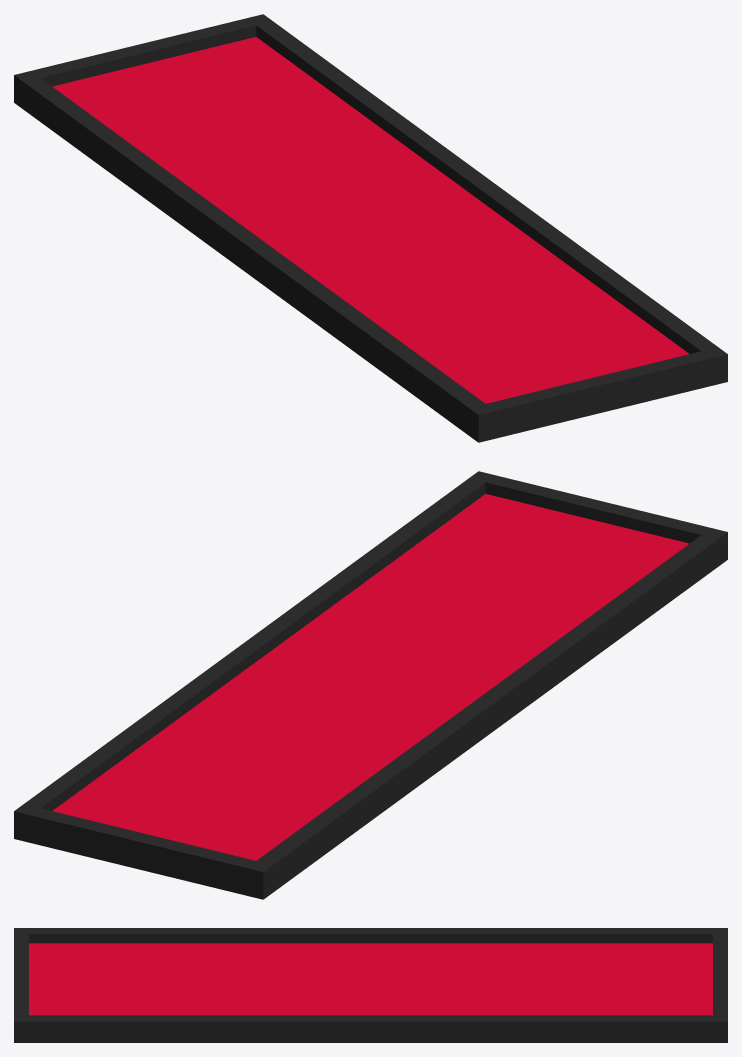
The model's file is bus_sign2.fbx.
3 renders of one model, top to bottom at view 1: azimuth 30°, elevation 25°; view 2: azimuth 150°, elevation 25°; view 3: azimuth 270°, elevation 25°, orthographic. The views are drawn at different scales.
Visible parts, largest first — view 1: Cube; view 2: Cube; view 3: Cube.
Part boxes in pixels (x1,y1,x2,y2): Cube: [14, 14, 727, 442]; Cube: [14, 471, 727, 899]; Cube: [14, 928, 727, 1042].
Size of the model in its own units: 200 by 21.23 by 645.
